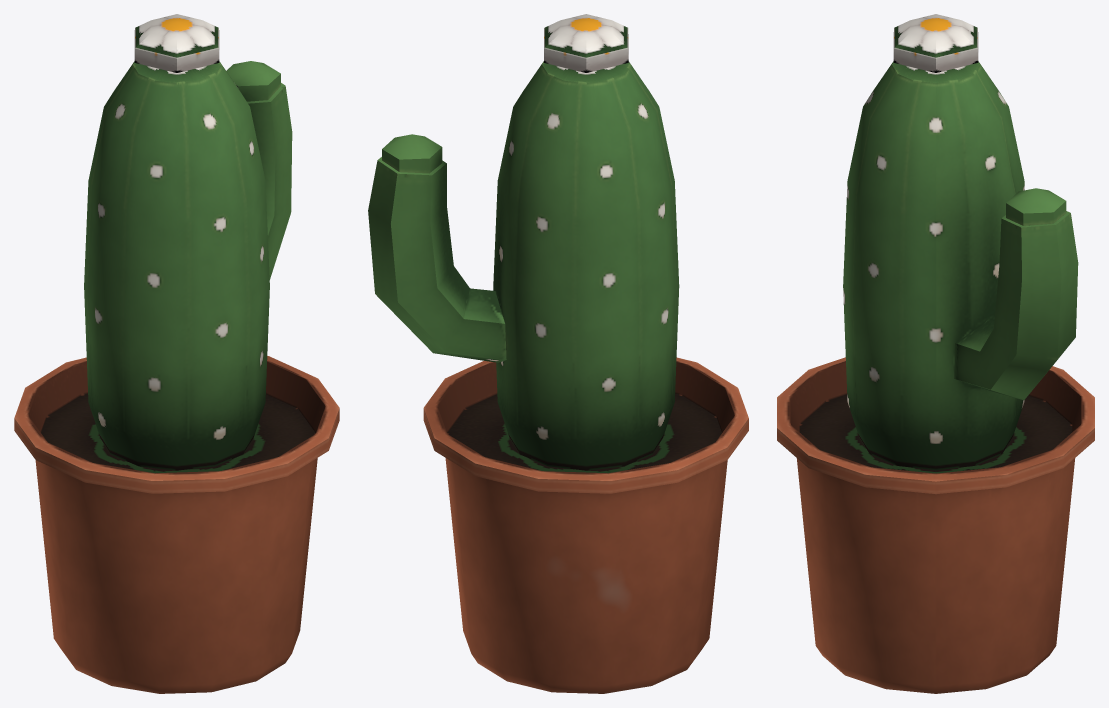
File: Plant_Cactus_01.glb
3 renders of one model, left to right at view 1: azimuth 30°, elevation 25°; view 2: azimuth 150°, elevation 25°; view 3: azimuth 270°, elevation 25°, orthographic.
Parts seen in each view (by area): view 1: Plant_Cactus_01; view 2: Plant_Cactus_01; view 3: Plant_Cactus_01.
Part boxes in pixels (x1,y1,x2,y2): Plant_Cactus_01: (14, 14, 339, 693); Plant_Cactus_01: (368, 14, 748, 693); Plant_Cactus_01: (777, 14, 1094, 693).
Size of the model in its own units: 0.1485 by 0.295 by 0.1365.
1 material, 1 textured.
